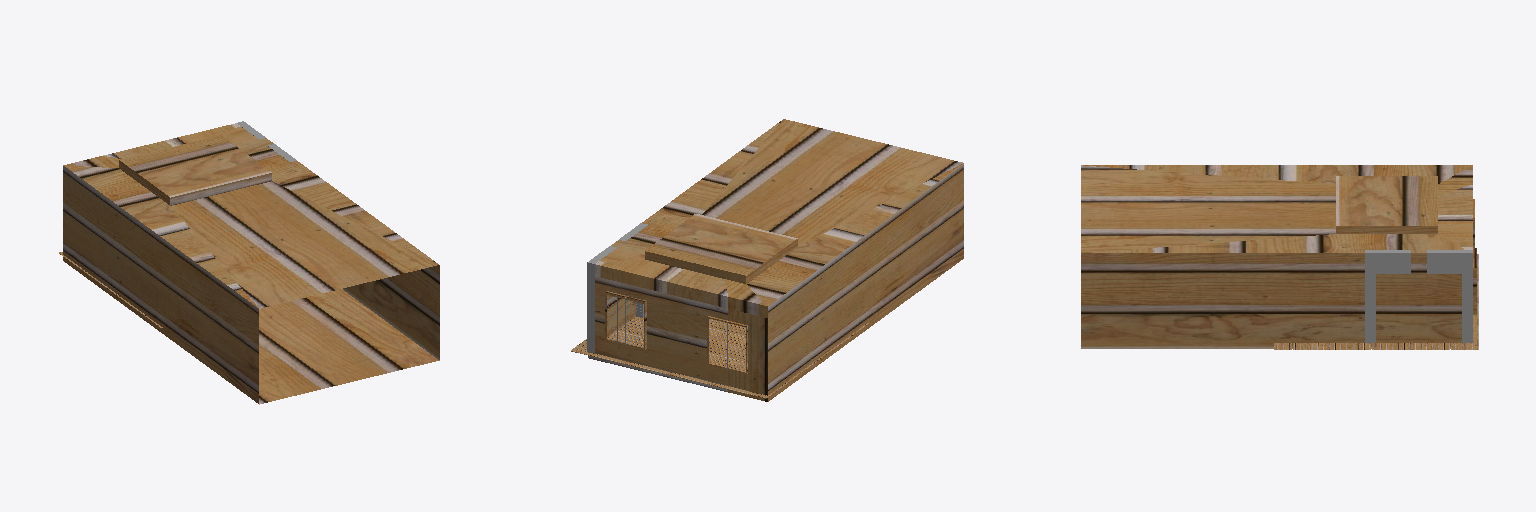
3 views of the same model, side by side, from view 1: azimuth 30°, elevation 25°; view 2: azimuth 150°, elevation 25°; view 3: azimuth 270°, elevation 25° (orthographic).
Parts seen in each view (by area): view 1: Cube.011_Cube.019; view 2: Cube.011_Cube.019, FloorBoard_Cube.018, Cube.012_Cube.020; view 3: Cube.011_Cube.019, Cube.012_Cube.020, FloorBoard_Cube.018.
Boxes of the visible parts, box(x1,y1,x2,y2) form: Cube.011_Cube.019: box(63, 123, 439, 404); Cube.011_Cube.019: box(588, 119, 963, 401); FloorBoard_Cube.018: box(571, 317, 868, 398); Cube.012_Cube.020: box(587, 223, 647, 353); Cube.011_Cube.019: box(1081, 165, 1476, 348); Cube.012_Cube.020: box(1365, 250, 1472, 342); FloorBoard_Cube.018: box(1274, 254, 1478, 349).
Bounding box in the file's own units: 19.57 × 9.93 × 34.48.
Materials: 7 (1 with a texture image).